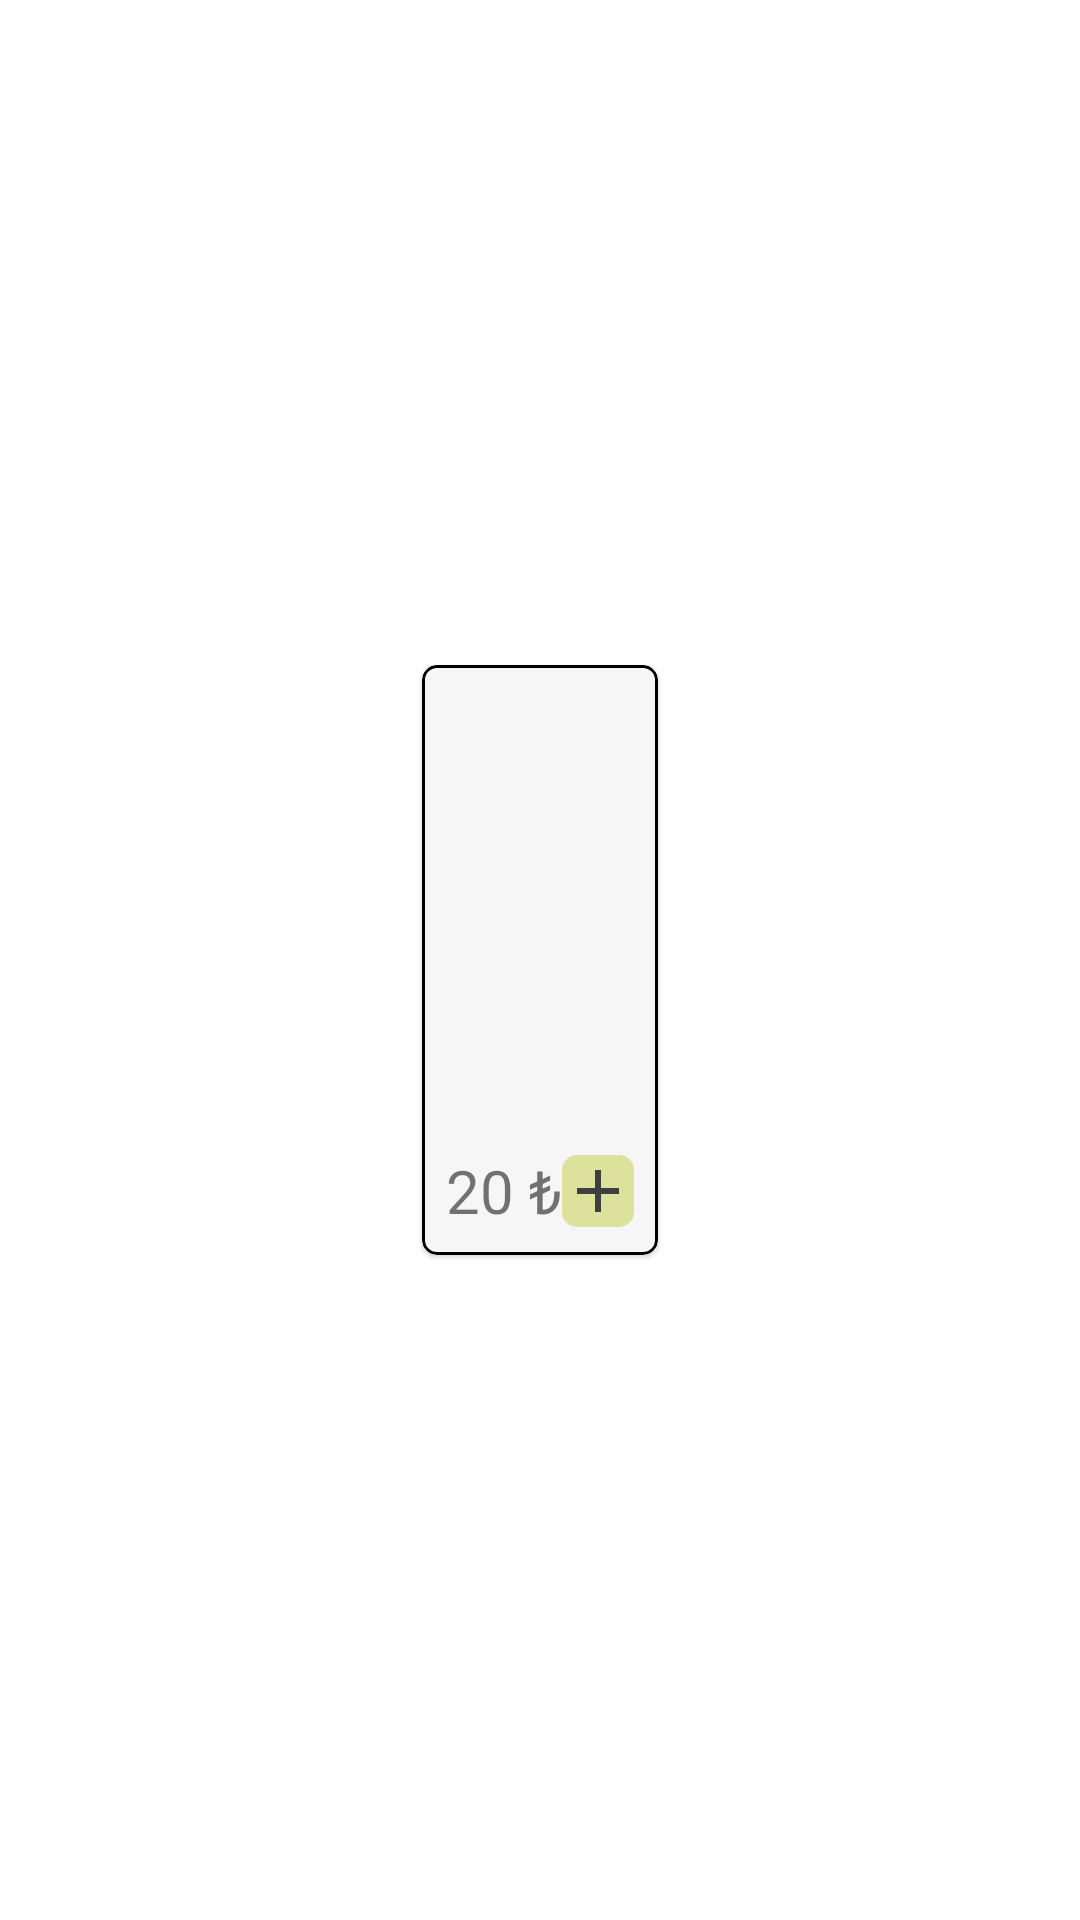

Screen size 1080 × 1920. Icon name, then its box in pixels as [left=x1, top=y1, right=x2, bottom=y2]:
add: [left=562, top=1155, right=634, bottom=1227]
